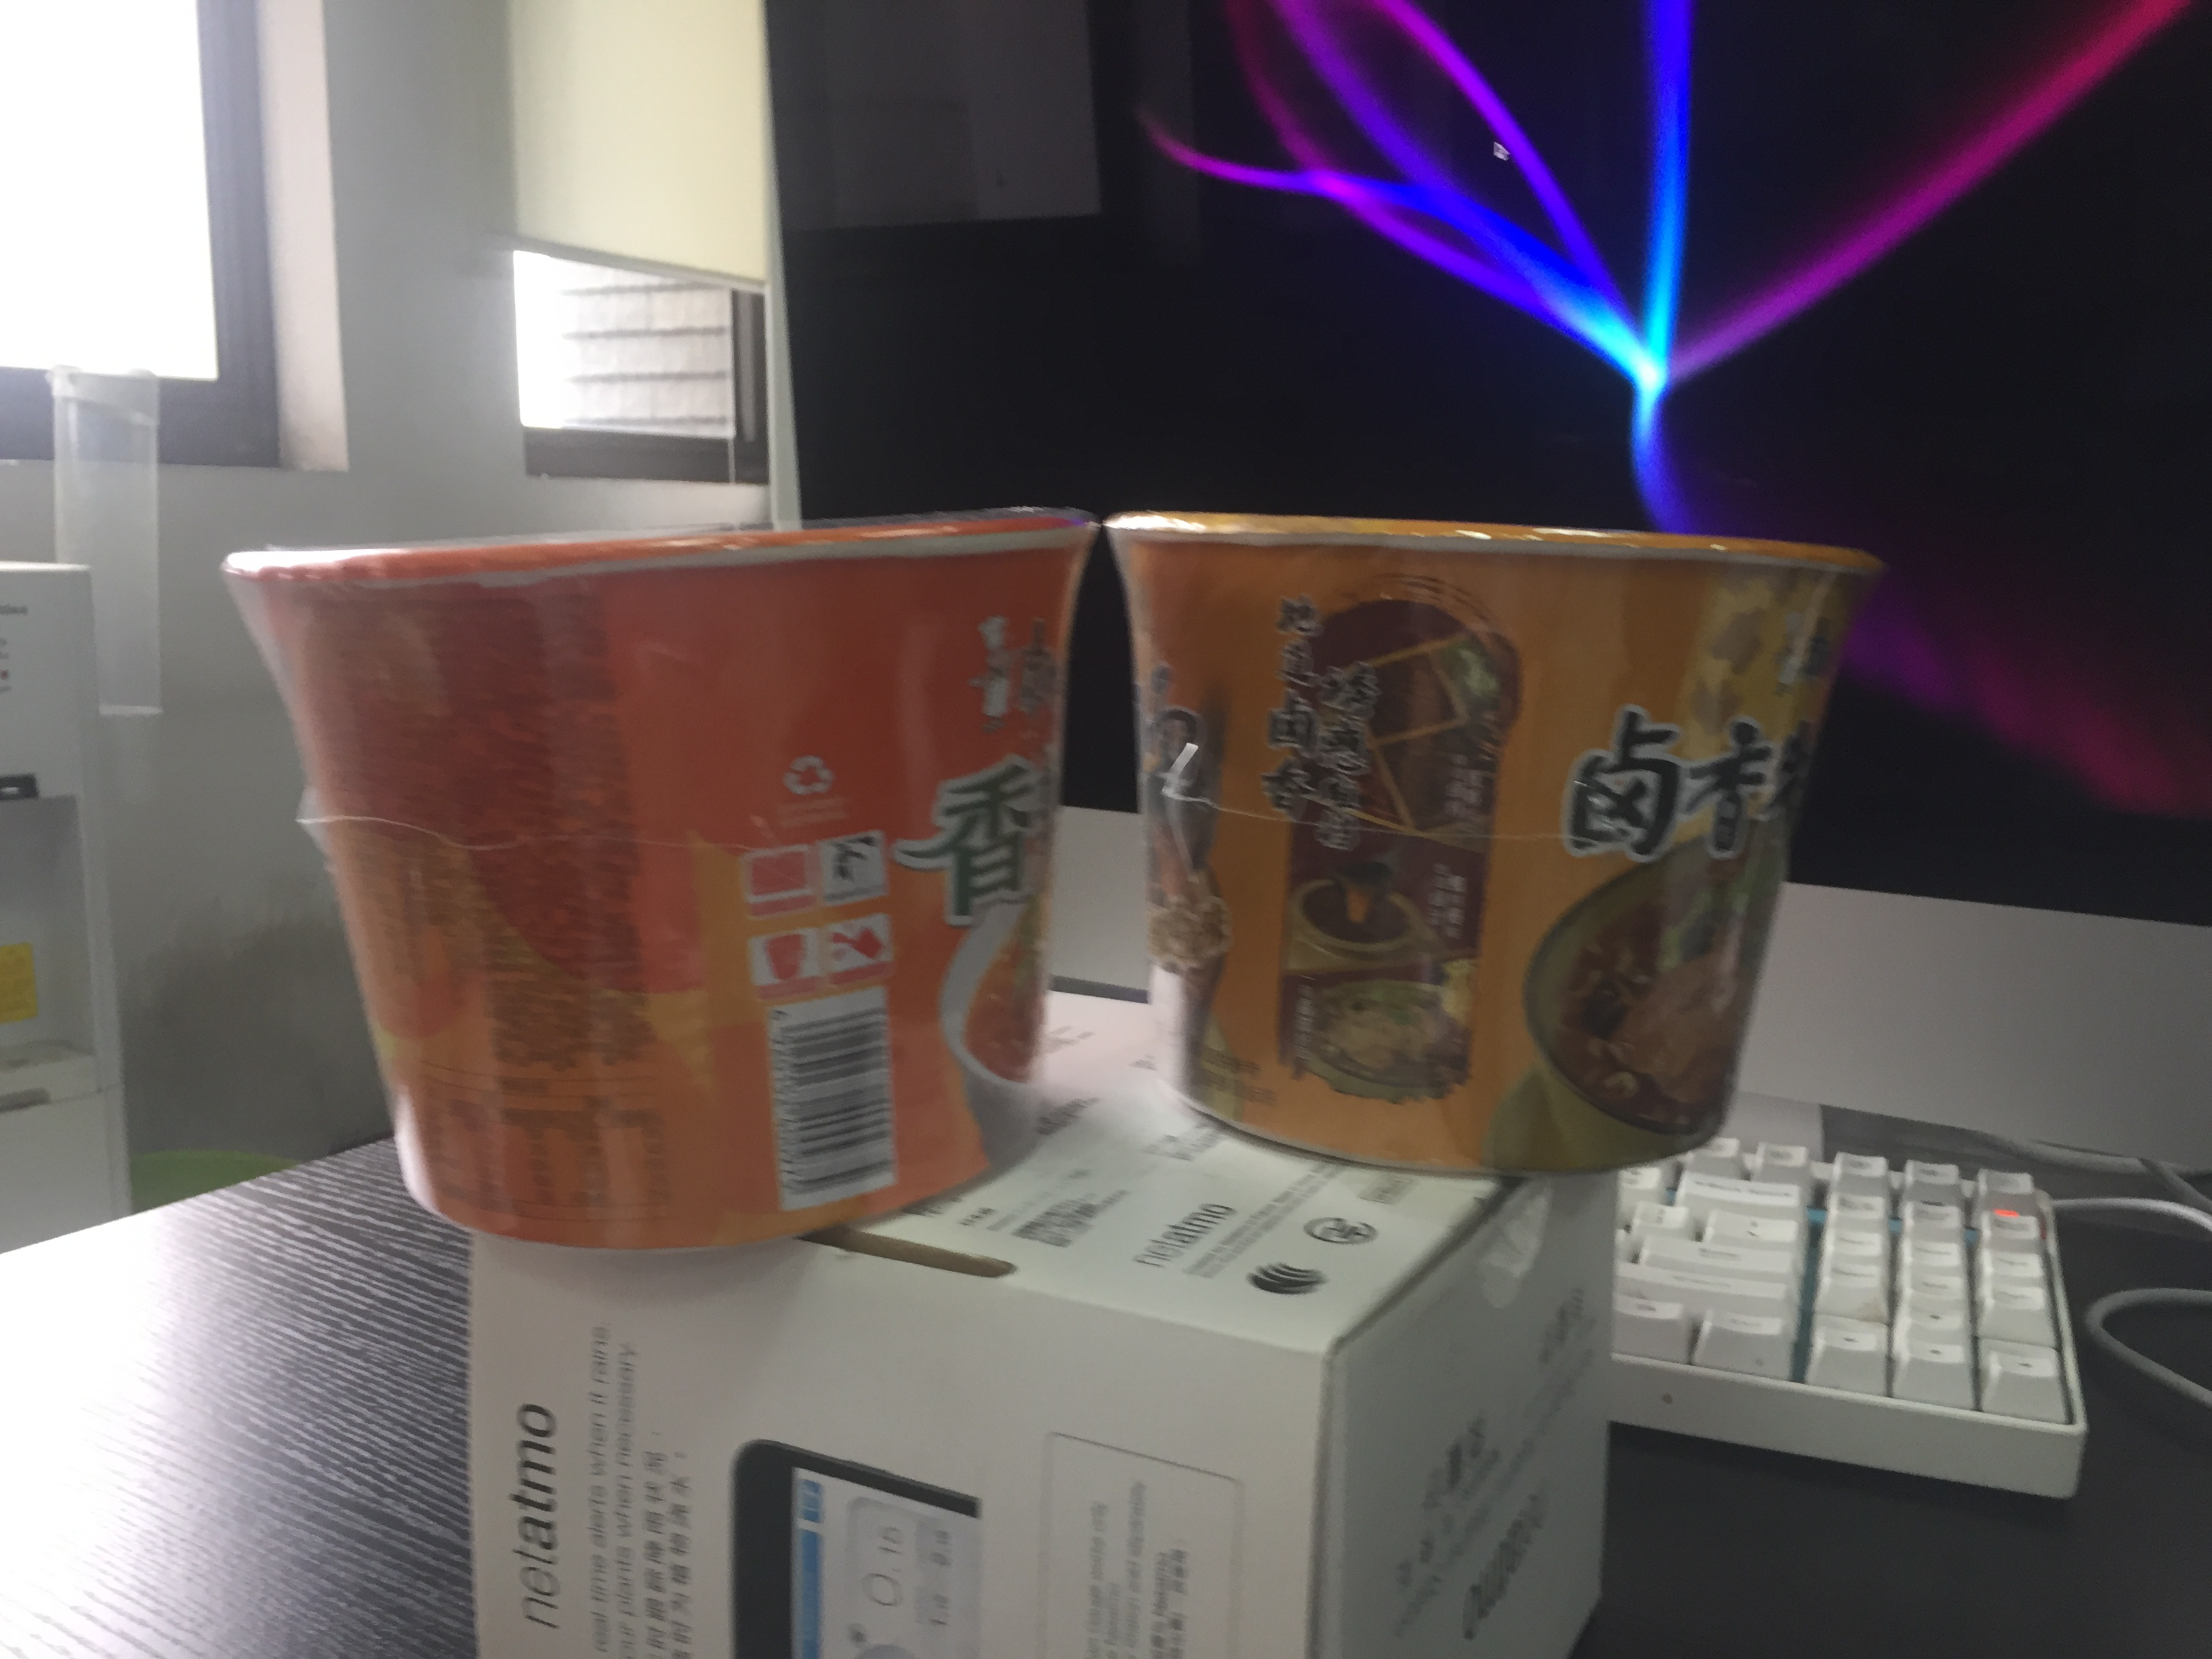luxiang: (1101, 509, 1888, 1180)
xiangla: (223, 505, 1101, 1253)
